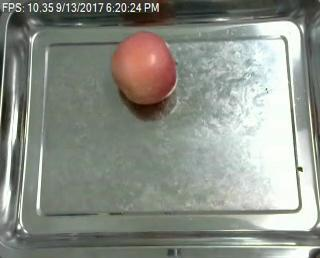apple: (109, 32, 179, 106)
